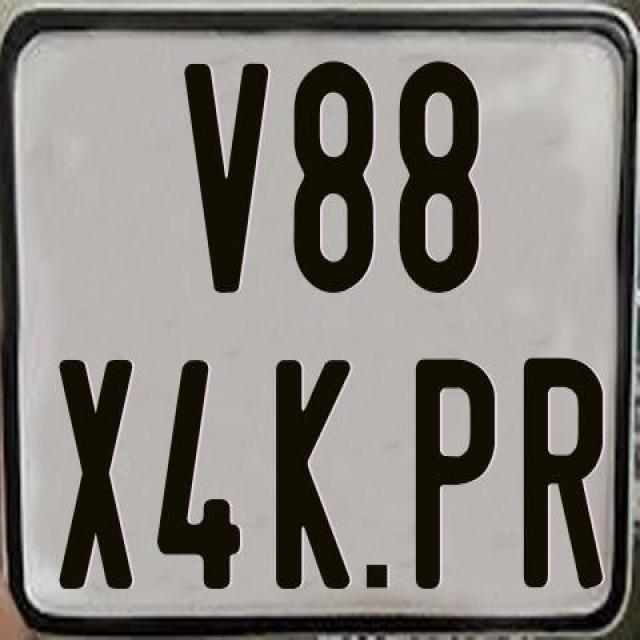4: (158, 357, 246, 595)
8: (290, 56, 378, 293), (396, 61, 478, 299)
K: (272, 355, 350, 587)
P: (414, 357, 494, 595)
R: (524, 357, 610, 591)
V: (183, 64, 273, 302)
X: (56, 359, 132, 588)
